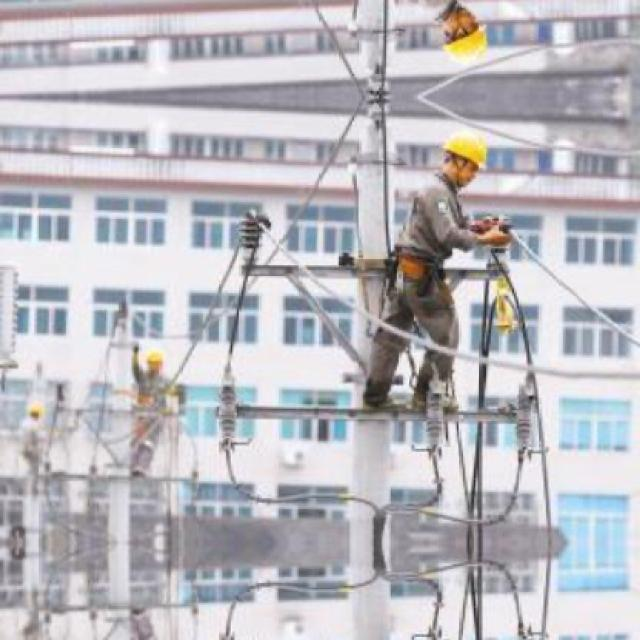con casco: (438, 120, 487, 170)
